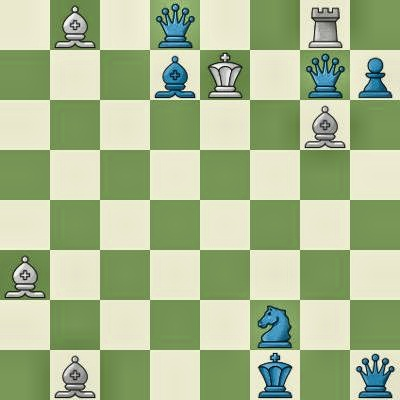black-bishop: (150, 50, 200, 100)
black-king: (250, 350, 300, 400)
black-knight: (250, 300, 300, 350)
black-pawn: (350, 50, 400, 100)
black-queen: (150, 0, 200, 50), (300, 50, 350, 100), (350, 350, 400, 400)
white-bishop: (50, 0, 100, 50), (300, 100, 350, 150), (0, 250, 50, 300), (50, 350, 100, 400)
white-king: (200, 50, 250, 100)
white-rook: (300, 0, 350, 50)
